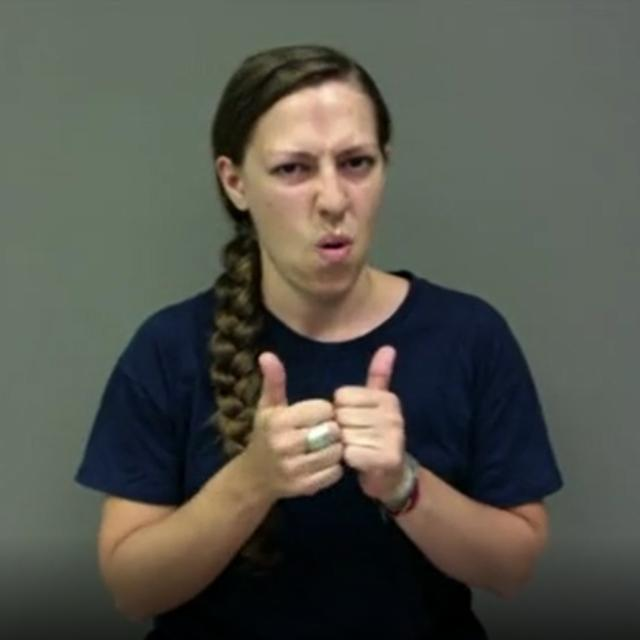how: (247, 346, 405, 498)
